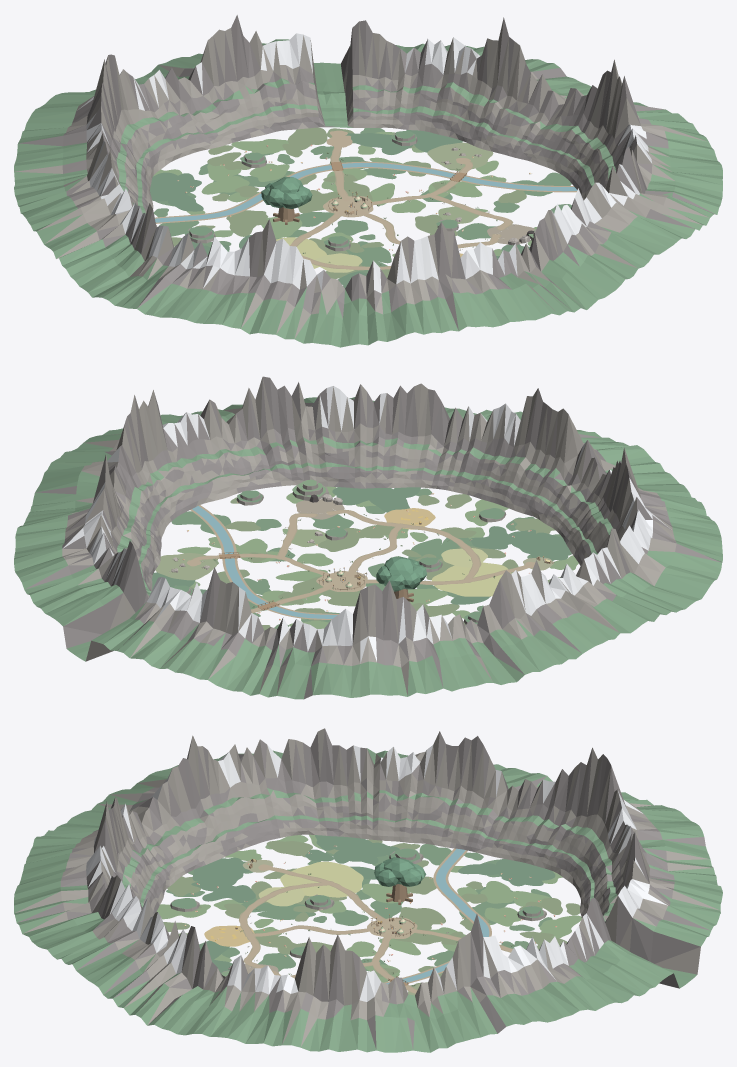
The model's file is map_field_hollow.glb.
3 views of the same model, one above another, from view 1: azimuth 30°, elevation 25°; view 2: azimuth 150°, elevation 25°; view 3: azimuth 270°, elevation 25° (orthographic).
Visible parts, largest first — view 1: Z_field_hollow_penhascos, Z_field_hollow_det_chao_-2_-2, Z_field_hollow_agua_rio_1, Z_field_hollow_det_chao_1_-2, Z_field_hollow_det_chao_-1_0, Z_field_hollow_det_chao_-2_-1, Z_field_hollow_det_chao_-1_-3, Z_field_hollow_margem_rio_1, Z_field_hollow_det_chao_0_-2, Z_field_hollow_det_chao_-1_-2, Z_field_hollow_det_chao_0_-3, Z_field_hollow_det_chao_1_-1 (+10 smaller); view 2: Z_field_hollow_penhascos, Z_field_hollow_chao_prado, Z_field_hollow_det_chao_-1_1, Z_field_hollow_det_chao_0_2, Z_field_hollow_det_chao_-2_1, Z_field_hollow_agua_rio_1, Z_field_hollow_det_chao_1_-1, Z_field_hollow_chao_encosta, Z_field_hollow_det_chao_-1_0, Z_field_hollow_det_chao_0_1, Z_field_hollow_det_chao_0_0, Z_field_hollow_det_chao_-2_-1 (+13 smaller); view 3: Z_field_hollow_penhascos, Z_field_hollow_det_chao_-3_0, Z_field_hollow_det_chao_-2_-2, Z_field_hollow_chao_prado, Z_field_hollow_det_chao_-1_0, Z_field_hollow_det_chao_-1_-3, Z_field_hollow_det_chao_-1_1, Z_field_hollow_det_chao_-2_1, Z_field_hollow_det_chao_-1_-2, Z_field_hollow_agua_rio_1, Z_field_hollow_det_chao_-1_-1, Z_field_hollow_det_chao_-2_2 (+16 smaller).
Boxes of the visible parts, x1,y1,x2,y2 form: Z_field_hollow_penhascos: (14,15,722,347); Z_field_hollow_det_chao_-2_-2: (150,176,249,214); Z_field_hollow_agua_rio_1: (155,163,577,222); Z_field_hollow_det_chao_1_-2: (345,130,462,164); Z_field_hollow_det_chao_-1_0: (287,219,391,263); Z_field_hollow_det_chao_-2_-1: (195,210,302,238); Z_field_hollow_det_chao_-1_-3: (198,141,284,182); Z_field_hollow_margem_rio_1: (154,161,576,223); Z_field_hollow_det_chao_0_-2: (277,146,405,197); Z_field_hollow_det_chao_-1_-2: (213,163,316,202); Z_field_hollow_det_chao_0_-3: (249,127,327,157); Z_field_hollow_det_chao_1_-1: (372,161,506,205); Z_field_hollow_penhascos: (14,376,722,699); Z_field_hollow_chao_prado: (431,562,511,596); Z_field_hollow_det_chao_-1_1: (402,523,512,579); Z_field_hollow_det_chao_0_2: (368,487,471,512); Z_field_hollow_det_chao_-2_1: (470,529,568,560); Z_field_hollow_agua_rio_1: (192,506,337,618); Z_field_hollow_det_chao_1_-1: (191,537,329,583); Z_field_hollow_chao_encosta: (155,553,216,580); Z_field_hollow_det_chao_-1_0: (368,538,454,589); Z_field_hollow_det_chao_0_1: (329,500,428,538); Z_field_hollow_det_chao_0_0: (297,527,401,571); Z_field_hollow_det_chao_-2_-1: (408,588,470,625); Z_field_hollow_penhascos: (14,728,722,1052); Z_field_hollow_det_chao_-3_0: (266,834,386,863); Z_field_hollow_det_chao_-2_-2: (451,858,538,903); Z_field_hollow_chao_prado: (280,861,363,897); Z_field_hollow_det_chao_-1_0: (257,889,370,925); Z_field_hollow_det_chao_-1_-3: (503,889,581,935); Z_field_hollow_det_chao_-1_1: (202,881,329,935); Z_field_hollow_det_chao_-2_1: (191,857,255,902); Z_field_hollow_det_chao_-1_-2: (457,887,521,930); Z_field_hollow_agua_rio_1: (386,848,489,984); Z_field_hollow_det_chao_-1_-1: (370,900,445,928); Z_field_hollow_det_chao_-2_2: (166,858,229,896).
Size of the model in its own units: 330 by 57.09 by 327.
